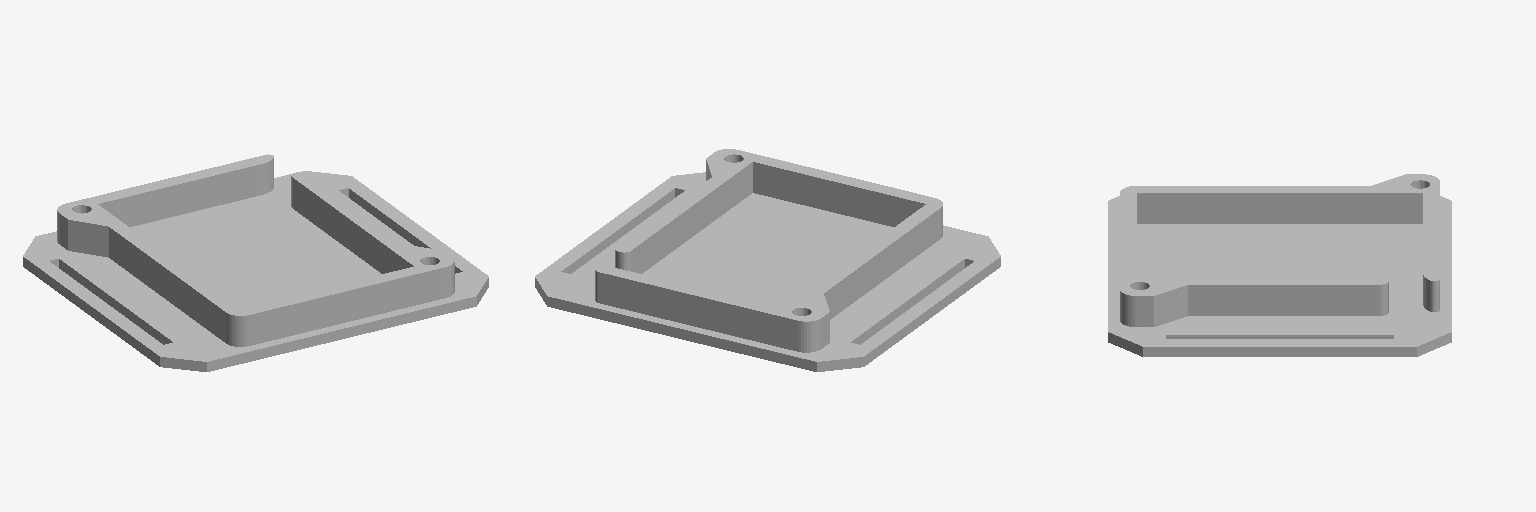
The model's file is main-bottom.obj.
3 renders of one model, left to right at view 1: azimuth 30°, elevation 25°; view 2: azimuth 150°, elevation 25°; view 3: azimuth 270°, elevation 25°, orthographic.
Parts seen in each view (by area): view 1: main-bottom; view 2: main-bottom; view 3: main-bottom.
Part boxes in pixels (bbox=[...]): main-bottom: bbox=[23, 154, 488, 371]; main-bottom: bbox=[535, 149, 1000, 371]; main-bottom: bbox=[1108, 174, 1451, 356].
Bounding box in the file's own units: 66.45 × 8 × 60.